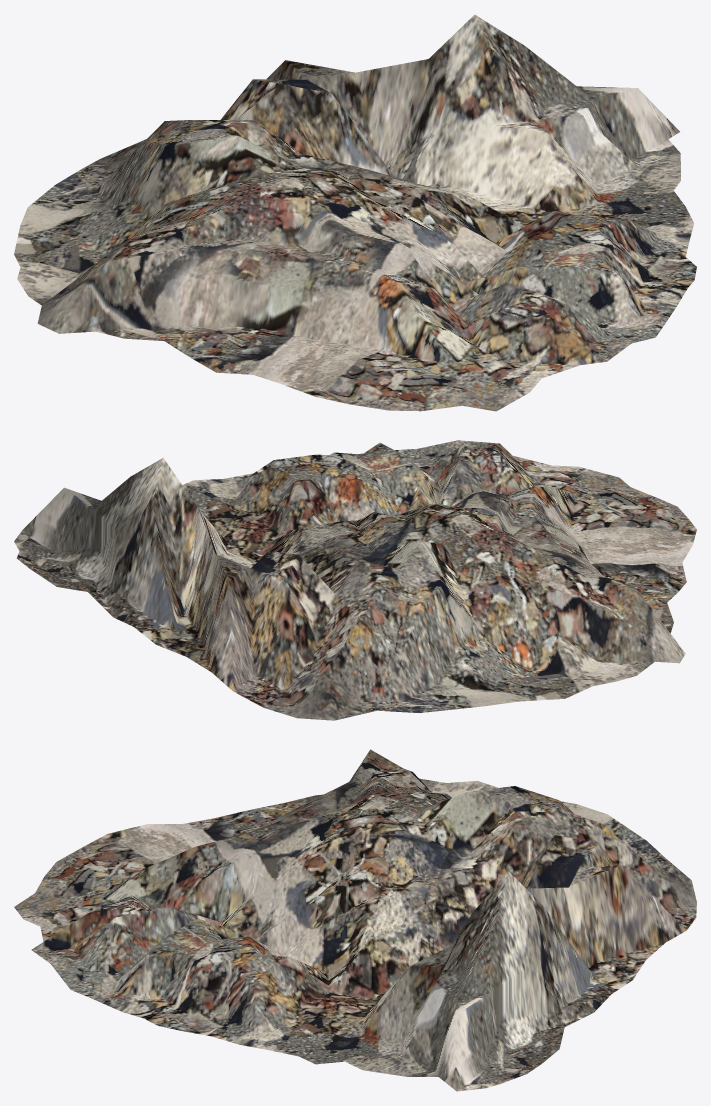
File: RubPile3.FBX
3 renders of one model, top to bottom at view 1: azimuth 30°, elevation 25°; view 2: azimuth 150°, elevation 25°; view 3: azimuth 270°, elevation 25°, orthographic. The views are drawn at different scales.
Visible parts, largest first — view 1: Plane01; view 2: Plane01; view 3: Plane01.
Part boxes in pixels (<box>): Plane01: <box>14,14,696,411</box>; Plane01: <box>14,440,696,720</box>; Plane01: <box>14,749,696,1091</box>.
Bounding box in the file's own units: 12.62 × 2.71 × 11.47.
